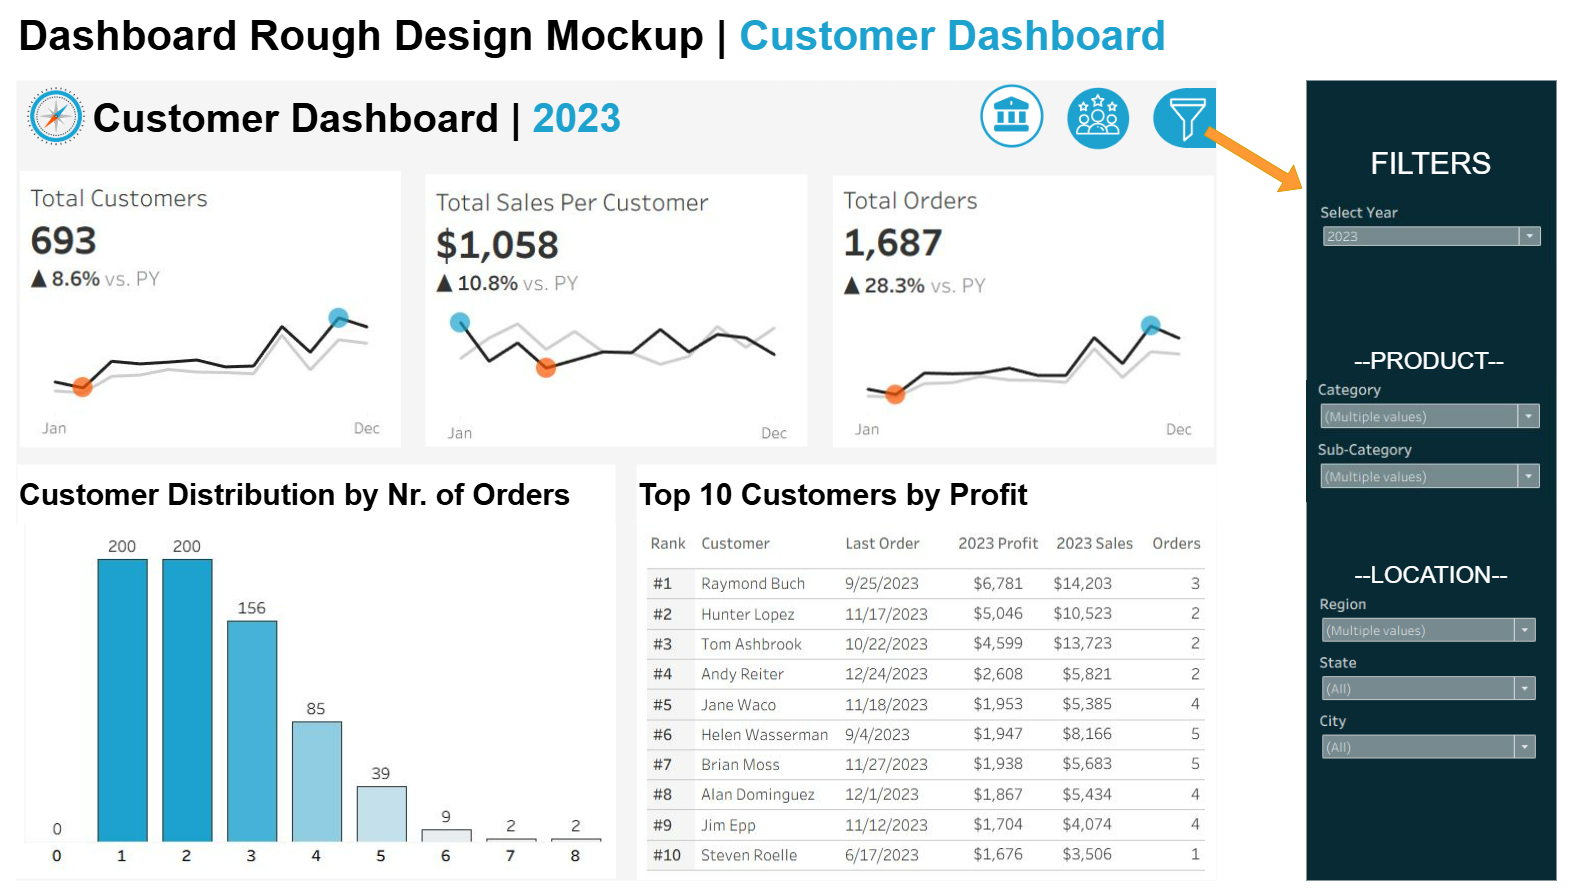

The dashboard page shown, as its layout file describes it:
{"tool":"tableau","page":{"name":"Customer Dashboard","canvas":[1200,800],"ordinal":0},"visuals":[{"type":"image","param":"Image/logo.png","box":[0,0,68,60]},{"type":"text","box":[68,0,794,60]},{"type":"dashboard-object","box":[941,8,91,68]},{"type":"dashboard-object","box":[1032,8,91,68]},{"type":"blank","box":[953,9,237,78]},{"type":"worksheet","title":"Legend KPI","mark":"Automatic","box":[0,60,1200,36]},{"type":"text","box":[953,87,237,40]},{"type":"worksheet","title":"KPI Customers","mark":"Automatic","rows":["Min/Max Profit (copy)_1270214533894150"],"cols":["Order Date"],"box":[0,96,400,286]},{"type":"worksheet","title":"KPI Sales Per Customer","mark":"Automatic","rows":["Calculation_1270214557507598"],"cols":["Order Date"],"box":[400,96,400,286]},{"type":"worksheet","title":"KPI Orders","mark":"Automatic","rows":["Calculation_0851850587615235"],"cols":["Order Date"],"box":[800,96,400,286]},{"type":"parameter","param":"[Parameters].[Parameter 1]","box":[953,127,237,56]},{"type":"blank","box":[953,183,237,61]},{"type":"text","box":[953,244,237,33]},{"type":"filter","title":"KPI Customers","param":"[federated.1uo2da51ts00gj18be41n16k7q31].[none:Category:nk]","box":[953,277,237,61]},{"type":"filter","title":"KPI Customers","param":"[federated.1uo2da51ts00gj18be41n16k7q31].[none:Sub-Category:nk]","box":[953,338,237,61]},{"type":"text","box":[17,399,566,40]},{"type":"text","box":[617,399,566,40]},{"type":"blank","box":[953,399,237,60]},{"type":"worksheet","title":"Customer Distribution","mark":"Automatic","rows":["Calculation_1270214527123456"],"cols":["Calculation_0851850618069003"],"box":[17,439,566,344]},{"type":"text","box":[617,439,51,42]},{"type":"text","box":[668,439,144,42]},{"type":"text","box":[812,439,113,42]},{"type":"text","box":[925,439,98,42]},{"type":"text","box":[1023,439,96,42]},{"type":"text","box":[1119,439,64,42]},{"type":"text","box":[953,459,237,33]},{"type":"worksheet","title":"Top 10 Customers","mark":"Automatic","rows":["Calculation_0851850627080205","Customer Name","Order Date"],"box":[617,481,566,302]},{"type":"filter","title":"KPI Customers","param":"[federated.1uo2da51ts00gj18be41n16k7q31].[none:Region:nk]","box":[953,492,237,61]},{"type":"filter","title":"KPI Customers","param":"[federated.1uo2da51ts00gj18be41n16k7q31].[none:State:nk]","box":[953,553,237,61]},{"type":"filter","title":"KPI Customers","param":"[federated.1uo2da51ts00gj18be41n16k7q31].[none:City:nk]","box":[953,614,237,61]}]}

Visuals, with their boxes on the page's 1200x800 design canvas (x1, y1, x2, y2). These are canvas units, not pixel positions in the 1573x890 screenshot, which may show the page scaled, cropped or inside an application window:
image: crop(0, 0, 68, 60)
text: crop(68, 0, 862, 60)
dashboard-object: crop(941, 8, 1032, 76)
dashboard-object: crop(1032, 8, 1123, 76)
blank: crop(953, 9, 1190, 87)
"Legend KPI" worksheet: crop(0, 60, 1200, 96)
text: crop(953, 87, 1190, 127)
"KPI Customers" worksheet: crop(0, 96, 400, 382)
"KPI Sales Per Customer" worksheet: crop(400, 96, 800, 382)
"KPI Orders" worksheet: crop(800, 96, 1200, 382)
parameter: crop(953, 127, 1190, 183)
blank: crop(953, 183, 1190, 244)
text: crop(953, 244, 1190, 277)
"KPI Customers" filter: crop(953, 277, 1190, 338)
"KPI Customers" filter: crop(953, 338, 1190, 399)
text: crop(17, 399, 583, 439)
text: crop(617, 399, 1183, 439)
blank: crop(953, 399, 1190, 459)
"Customer Distribution" worksheet: crop(17, 439, 583, 783)
text: crop(617, 439, 668, 481)
text: crop(668, 439, 812, 481)
text: crop(812, 439, 925, 481)
text: crop(925, 439, 1023, 481)
text: crop(1023, 439, 1119, 481)
text: crop(1119, 439, 1183, 481)
text: crop(953, 459, 1190, 492)
"Top 10 Customers" worksheet: crop(617, 481, 1183, 783)
"KPI Customers" filter: crop(953, 492, 1190, 553)
"KPI Customers" filter: crop(953, 553, 1190, 614)
"KPI Customers" filter: crop(953, 614, 1190, 675)
